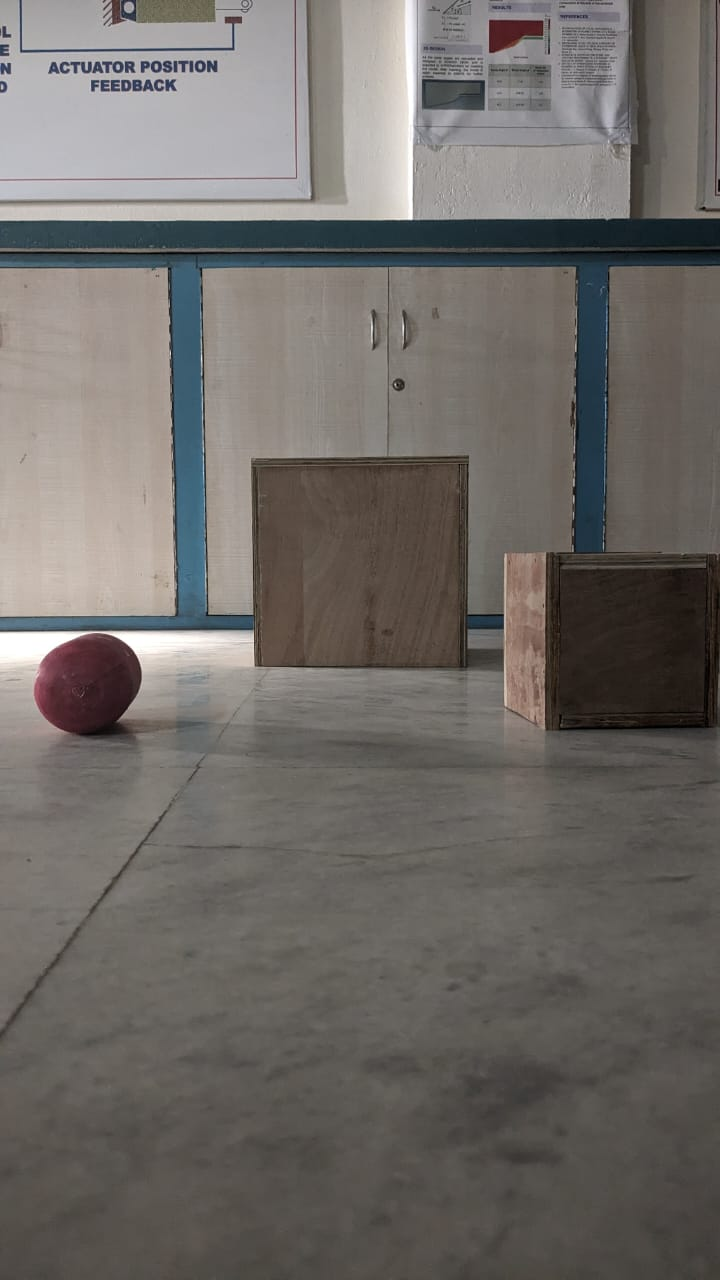150mm obstacle: (506, 557, 720, 735)
300mm obstacle: (244, 439, 481, 697)
testtube: (22, 613, 156, 773)
